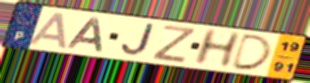A: (26, 11, 70, 50), (66, 17, 105, 54)
D: (229, 33, 274, 72)
H: (191, 27, 244, 68)
J: (119, 23, 156, 57)
Z: (150, 24, 198, 65)
